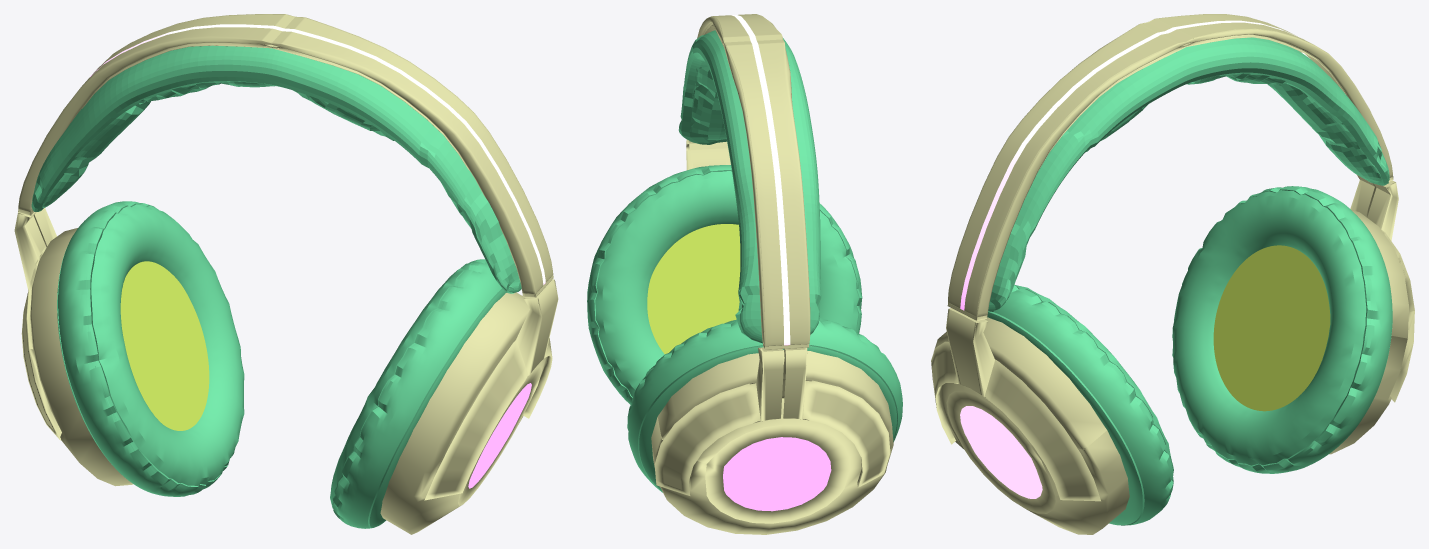
File: Headphone.glb
The picture shows the model from 3 angles, left to right: view 1: azimuth 30°, elevation 25°; view 2: azimuth 150°, elevation 25°; view 3: azimuth 270°, elevation 25°; orthographic projection. The views are drawn at different scales.
Parts seen in each view (by area): view 1: acolchado_2, Plane_7, Cube.001_1, audiocentral_3, cubierta_5, audiocentral.001_4; view 2: acolchado_2, audiocentral_3, Cube.001_1, cubierta_5, Plane_7, audiocentral.001_4; view 3: acolchado_2, audiocentral_3, Cube.001_1, Plane_7, audiocentral.001_4, cubierta_5.
Boxes of the visible parts, <box> form: acolchado_2: <box>57,201,506,528</box>; Plane_7: <box>31,45,521,293</box>; Cube.001_1: <box>18,14,553,297</box>; audiocentral_3: <box>30,228,546,534</box>; cubierta_5: <box>14,208,558,500</box>; audiocentral.001_4: <box>120,261,209,430</box>; acolchado_2: <box>587,165,902,492</box>; audiocentral_3: <box>651,345,893,534</box>; Cube.001_1: <box>689,14,810,349</box>; cubierta_5: <box>654,139,890,495</box>; Plane_7: <box>678,30,821,343</box>; audiocentral.001_4: <box>647,224,740,354</box>; acolchado_2: <box>987,186,1392,525</box>; audiocentral_3: <box>934,210,1408,534</box>; Cube.001_1: <box>947,14,1393,320</box>; Plane_7: <box>988,37,1389,311</box>; audiocentral.001_4: <box>1213,245,1330,411</box>; cubierta_5: <box>931,175,1414,501</box>.
Bounding box in the file's own units: 3.58 × 3.99 × 3.84.
